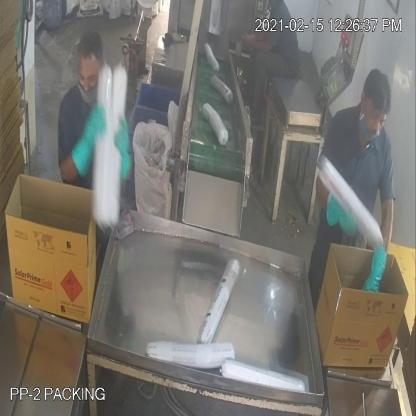glove: (68, 102, 105, 180), (320, 178, 362, 242), (113, 112, 133, 172)
no_glove: (237, 25, 280, 62)
